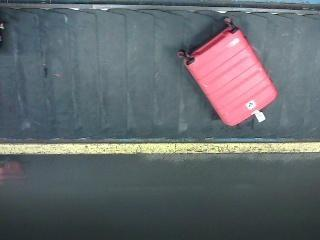Suitcase: (178, 18, 278, 126)
